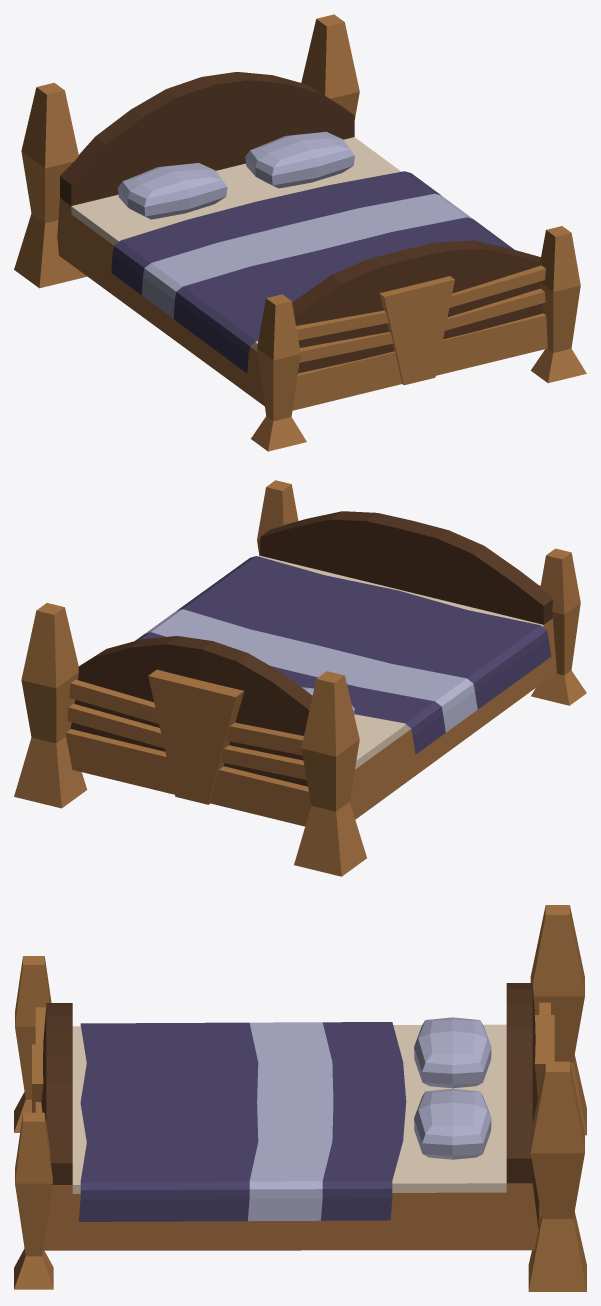
File: Double Bed.fbx
3 renders of one model, top to bottom at view 1: azimuth 30°, elevation 25°; view 2: azimuth 150°, elevation 25°; view 3: azimuth 270°, elevation 25°, orthographic. The views are drawn at different scales.
Parts seen in each view (by area): view 1: Double Bed, Pillow2.001, Pillow2; view 2: Double Bed; view 3: Double Bed, Pillow2, Pillow2.001.
Part boxes in pixels (x1,y1,x2,y2): Double Bed: (14,14,586,451); Pillow2.001: (245,131,354,188); Pillow2: (117,162,227,219); Double Bed: (14,480,586,876); Double Bed: (14,905,586,1291); Pillow2: (414,1017,491,1088); Pillow2.001: (414,1088,491,1159).
Size of the model in its own units: 2.61 by 1.4 by 3.44.
